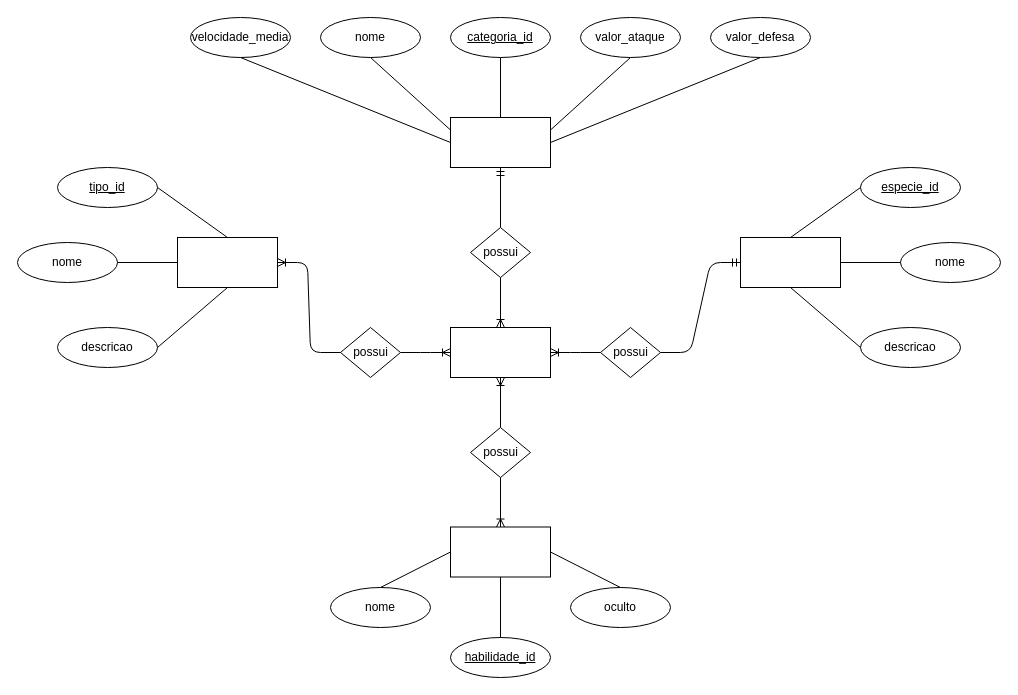
This 1018x695 diagram has some shape labels left out. Each missing label, with the centre of its shape:
Categoria: (500,142)
Espécie: (790,262)
Habilidade: (500,551)
Pokemon: (500,352)
Tipo: (227,262)
